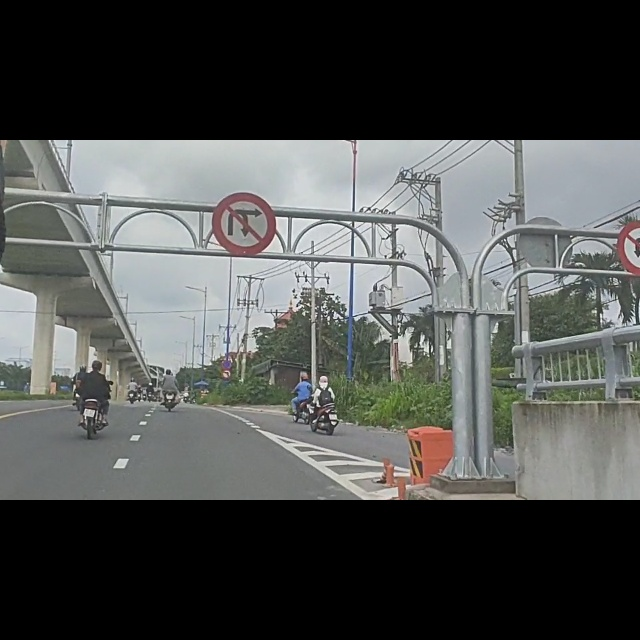bien_cam: (212, 94, 277, 209), (221, 392, 232, 407), (221, 409, 232, 424)
